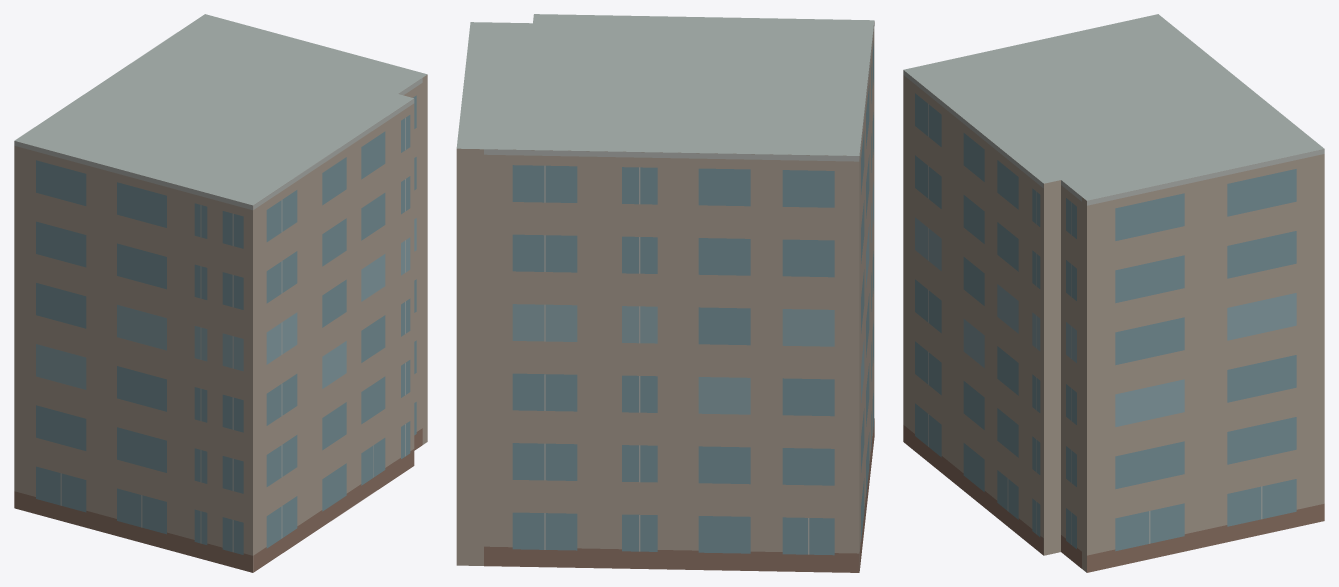
File: survey-upis-32957249.glb
The picture shows the model from 3 angles, left to right: view 1: azimuth 30°, elevation 25°; view 2: azimuth 150°, elevation 25°; view 3: azimuth 270°, elevation 25°; orthographic projection. The views are drawn at different scales.
Visible parts, largest first — view 1: survey-upis-32957249.tmp; view 2: survey-upis-32957249.tmp; view 3: survey-upis-32957249.tmp.
Boxes of the visible parts, bbox=[...] form: survey-upis-32957249.tmp: bbox=[14, 14, 427, 572]; survey-upis-32957249.tmp: bbox=[456, 14, 874, 572]; survey-upis-32957249.tmp: bbox=[903, 14, 1324, 572].
Bounding box in the file's own units: 19.72 × 18.3 × 18.8.
